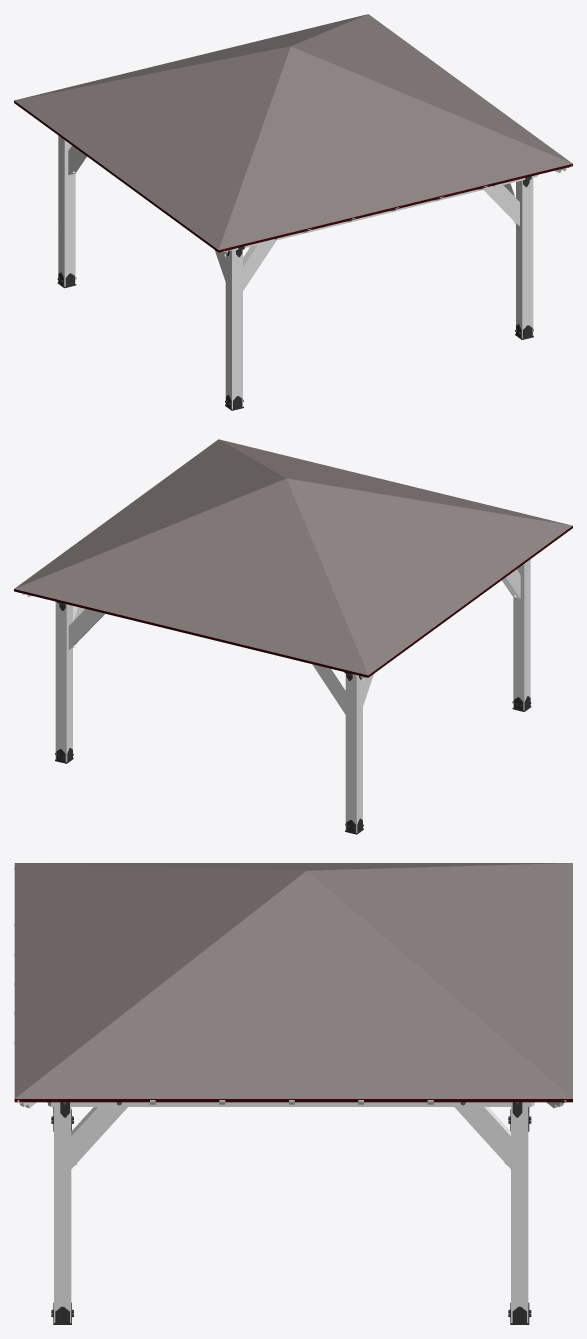
The model's file is saratoga-16x16-3step.obj.
3 renders of one model, top to bottom at view 1: azimuth 30°, elevation 25°; view 2: azimuth 150°, elevation 25°; view 3: azimuth 270°, elevation 25°, orthographic. The views are drawn at different scales.
Parts seen in each view (by area): view 1: Mesh226 shingles roof Group1 Model, Mesh177 Group71 Component_92_4 Group2 Group1 Model, Mesh79 Group43 Component_92_2 Group2 Group1 Model, Mesh128 Group57 Component_92_3 Group2 Group1 Model, Mesh227 roof Group1 Model, Mesh75 Component_135_1 Group2 Group1 Model, Mesh217 Component_91_7 Component_92_4 Group2 Group1 Model, Mesh119 Component_91_3 Component_92_2 Group2 Group1 Model; view 2: Mesh226 shingles roof Group1 Model, Mesh128 Group57 Component_92_3 Group2 Group1 Model, Mesh1 Group4 Component_92_1 Group3 Group2 Group1 Model, Mesh177 Group71 Component_92_4 Group2 Group1 Model, Mesh227 roof Group1 Model, Mesh168 Component_91_5 Component_92_3 Group2 Group1 Model, Mesh41 Component_91_1 Component_92_1 Group3 Group2 Group1 Model; view 3: Mesh226 shingles roof Group1 Model, Mesh79 Group43 Component_92_2 Group2 Group1 Model, Mesh1 Group4 Component_92_1 Group3 Group2 Group1 Model, Mesh227 roof Group1 Model, Mesh78 Component_134_2 Group2 Group1 Model, Mesh123 Component_91_4 Component_92_2 Group2 Group1 Model, Mesh45 Component_91_2 Component_92_1 Group3 Group2 Group1 Model.
Part boxes in pixels (left/top/right/bottom): Mesh226 shingles roof Group1 Model: left=14, top=14, right=572, bottom=250; Mesh177 Group71 Component_92_4 Group2 Group1 Model: left=225, top=249, right=242, bottom=409; Mesh79 Group43 Component_92_2 Group2 Group1 Model: left=516, top=178, right=533, bottom=338; Mesh128 Group57 Component_92_3 Group2 Group1 Model: left=58, top=135, right=75, bottom=286; Mesh227 roof Group1 Model: left=14, top=101, right=572, bottom=252; Mesh75 Component_135_1 Group2 Group1 Model: left=229, top=175, right=537, bottom=251; Mesh217 Component_91_7 Component_92_4 Group2 Group1 Model: left=243, top=240, right=276, bottom=290; Mesh119 Component_91_3 Component_92_2 Group2 Group1 Model: left=484, top=185, right=519, bottom=225; Mesh226 shingles roof Group1 Model: left=14, top=439, right=572, bottom=675; Mesh128 Group57 Component_92_3 Group2 Group1 Model: left=345, top=673, right=362, bottom=833; Mesh1 Group4 Component_92_1 Group3 Group2 Group1 Model: left=55, top=602, right=72, bottom=762; Mesh177 Group71 Component_92_4 Group2 Group1 Model: left=513, top=559, right=530, bottom=710; Mesh227 roof Group1 Model: left=14, top=526, right=572, bottom=677; Mesh168 Component_91_5 Component_92_3 Group2 Group1 Model: left=312, top=664, right=345, bottom=714; Mesh41 Component_91_1 Component_92_1 Group3 Group2 Group1 Model: left=68, top=609, right=104, bottom=649; Mesh226 shingles roof Group1 Model: left=14, top=863, right=572, bottom=1098; Mesh79 Group43 Component_92_2 Group2 Group1 Model: left=54, top=1107, right=71, bottom=1322; Mesh1 Group4 Component_92_1 Group3 Group2 Group1 Model: left=511, top=1107, right=528, bottom=1322; Mesh227 roof Group1 Model: left=14, top=1099, right=572, bottom=1102; Mesh78 Component_134_2 Group2 Group1 Model: left=59, top=1102, right=522, bottom=1106; Mesh123 Component_91_4 Component_92_2 Group2 Group1 Model: left=71, top=1107, right=127, bottom=1168; Mesh45 Component_91_2 Component_92_1 Group3 Group2 Group1 Model: left=454, top=1107, right=510, bottom=1168.
Bounding box in the file's own units: 193 × 135 × 193.
